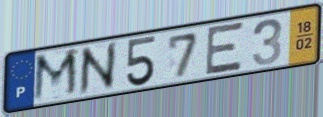3: (251, 17, 284, 66)
5: (125, 34, 158, 89)
7: (166, 29, 200, 80)
E: (203, 19, 246, 77)
M: (30, 46, 81, 105)
N: (78, 39, 118, 98)
